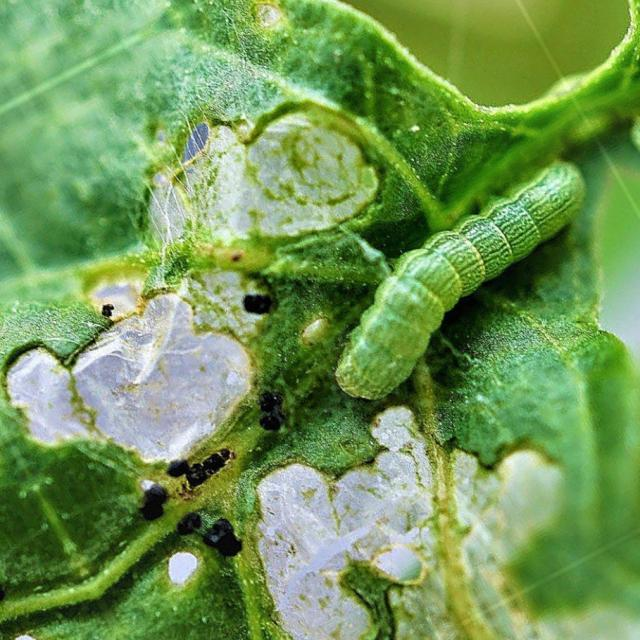Armyworm: (312, 154, 634, 409)
Armyworm_damage: (10, 255, 300, 484), (233, 432, 546, 640), (128, 88, 376, 245)
